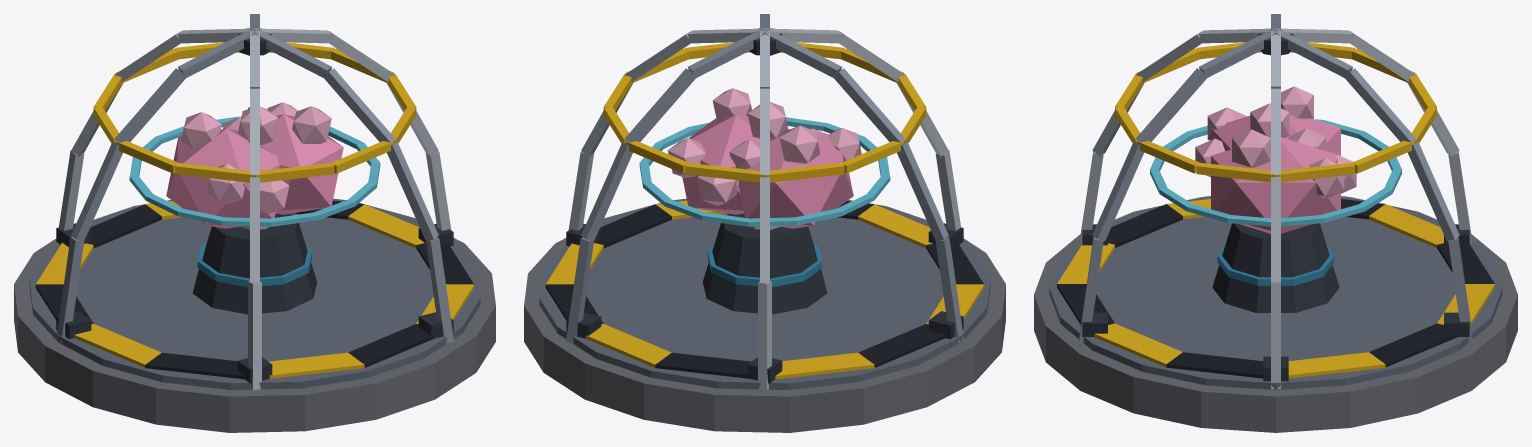
Rendered from Decor_RobotFactory_Lab.fbx.
3 views of the same model, side by side, from view 1: azimuth 30°, elevation 25°; view 2: azimuth 150°, elevation 25°; view 3: azimuth 270°, elevation 25° (orthographic).
Visible parts, largest first — view 1: Lab_Body; view 2: Lab_Body; view 3: Lab_Body.
Part boxes in pixels (x1=…): Lab_Body: x1=14, y1=14, x2=495, y2=432; Lab_Body: x1=524, y1=14, x2=1005, y2=432; Lab_Body: x1=1034, y1=14, x2=1517, y2=432.
Size of the model in its own units: 19 by 13 by 19.
